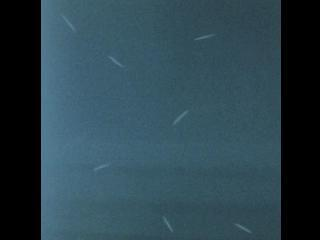scratch: (57, 6, 80, 33), (170, 106, 192, 130), (191, 28, 218, 47), (152, 213, 175, 234), (229, 219, 257, 235), (105, 51, 128, 70), (88, 158, 117, 173)
